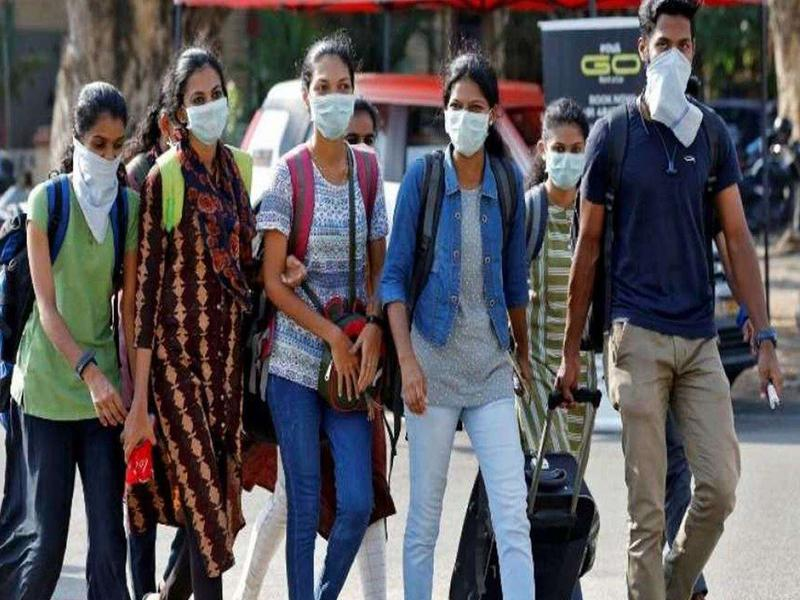mask: (70, 142, 126, 241), (648, 57, 692, 116), (181, 97, 231, 146), (309, 96, 357, 141), (444, 109, 488, 154)
